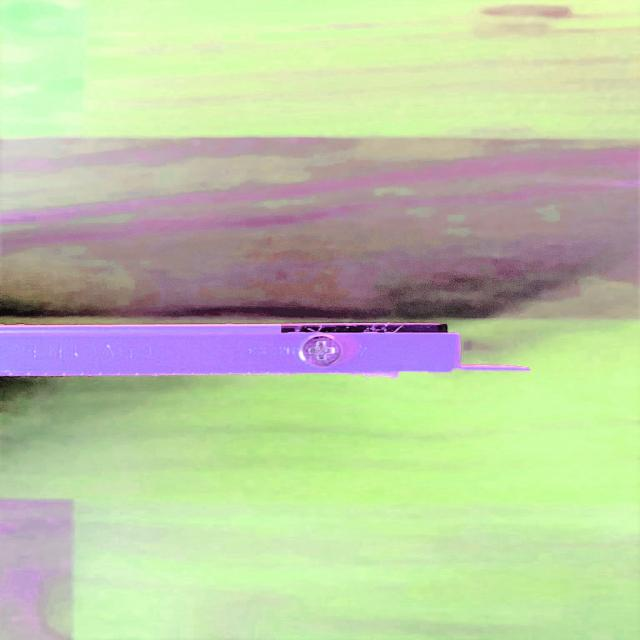PhillipsScrewHead: (298, 335, 344, 368)
